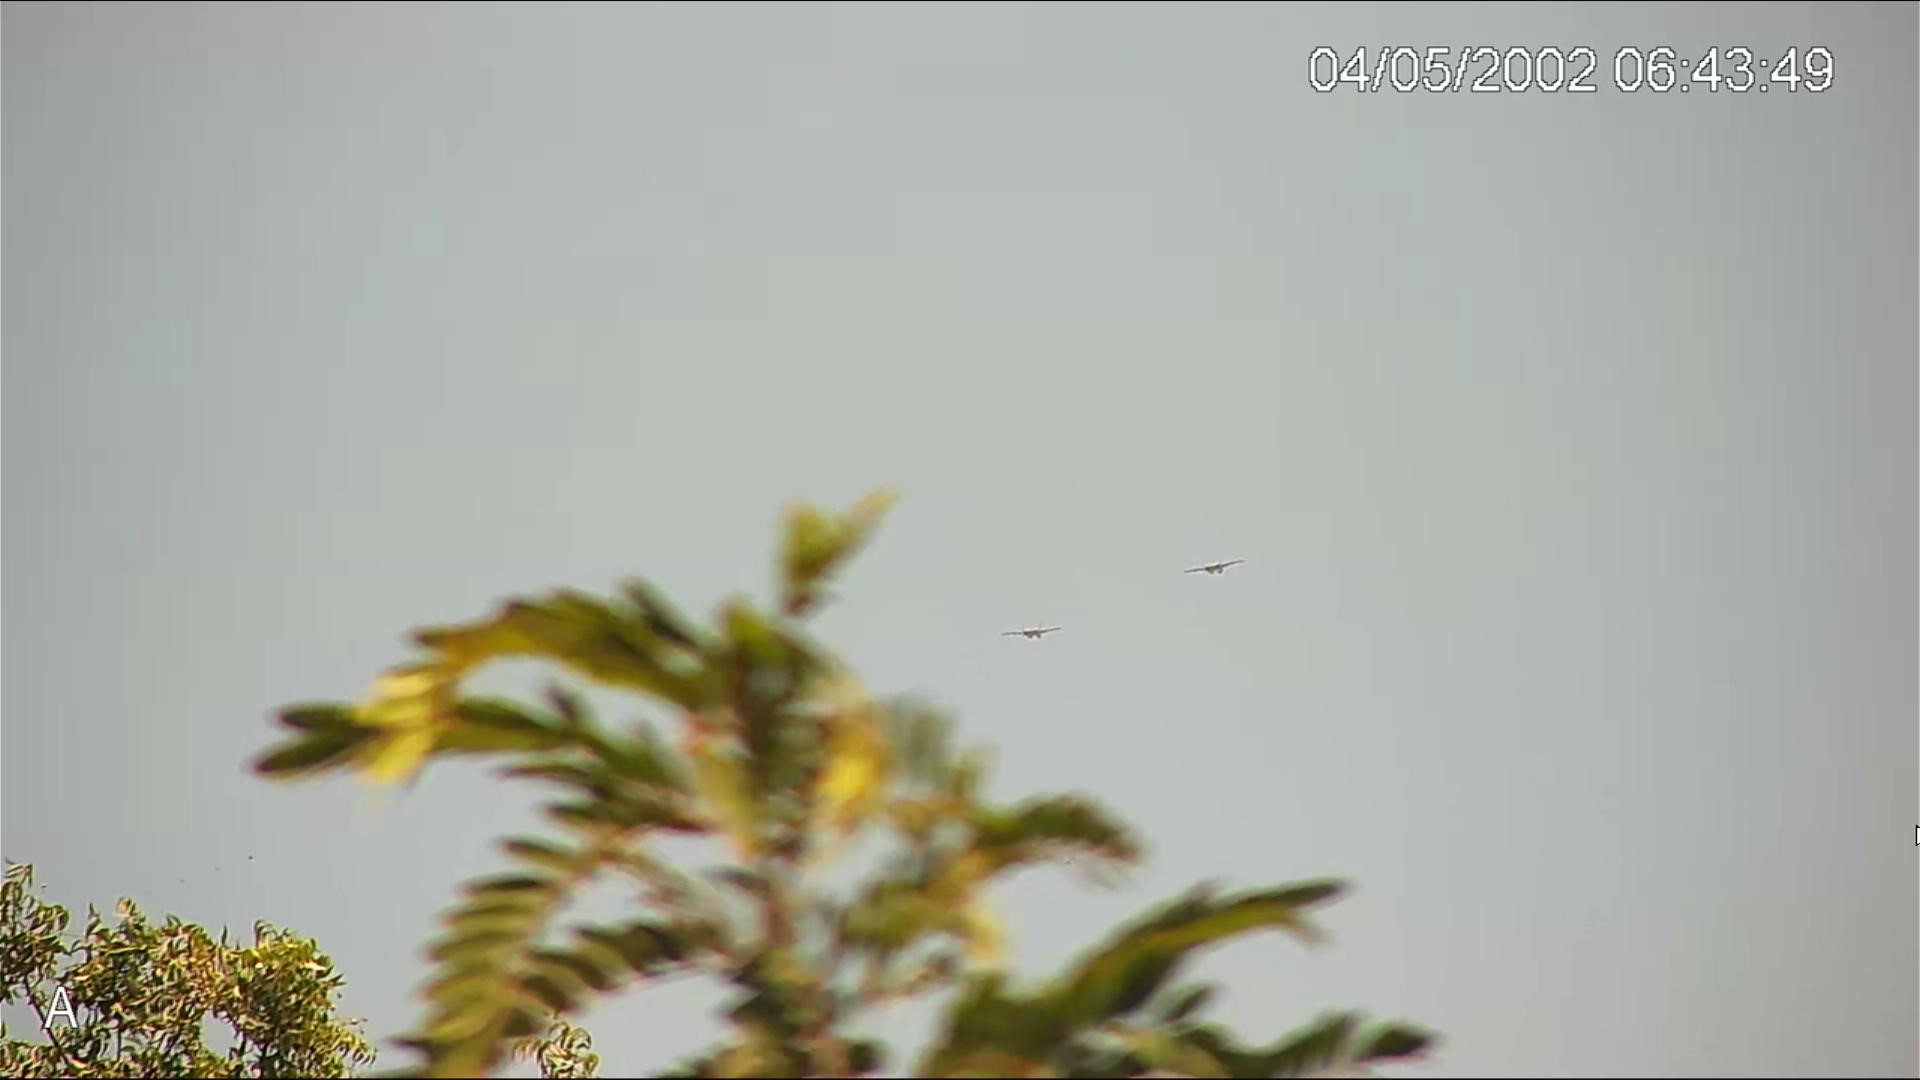SU_30: (1193, 558, 1250, 579), (1002, 622, 1065, 640)
